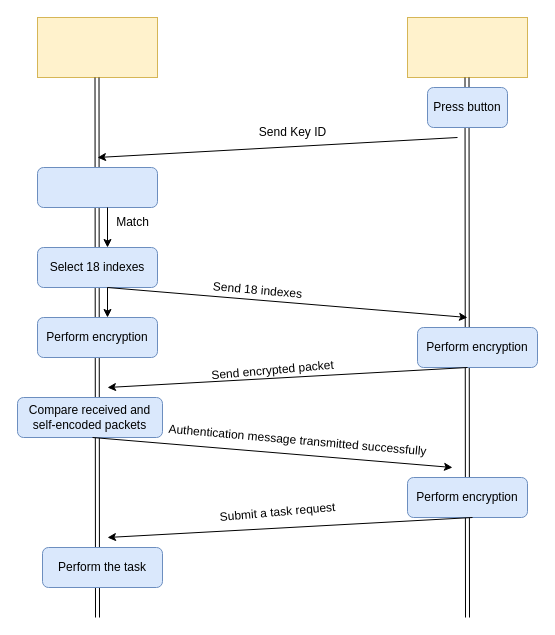
Some shapes in this 555 by 635 pixel diagram are drawn without their labels. The shapes that lost their labels are listed below. From the top down, each one's box as (x1, y1, x2, y2) in pixels, then its label:
(36, 16, 158, 78): Thiết bị nhận ở xe
(406, 16, 528, 78): Key
(36, 166, 158, 208): Check Key ID to see if it matches
